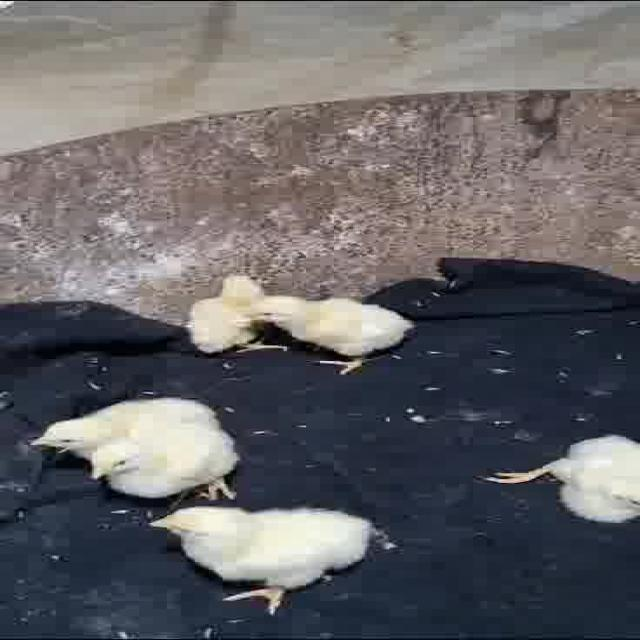poussin: (148, 508, 378, 612), (242, 286, 416, 375), (489, 430, 640, 531), (87, 425, 240, 504), (22, 396, 220, 452), (187, 268, 260, 365)
